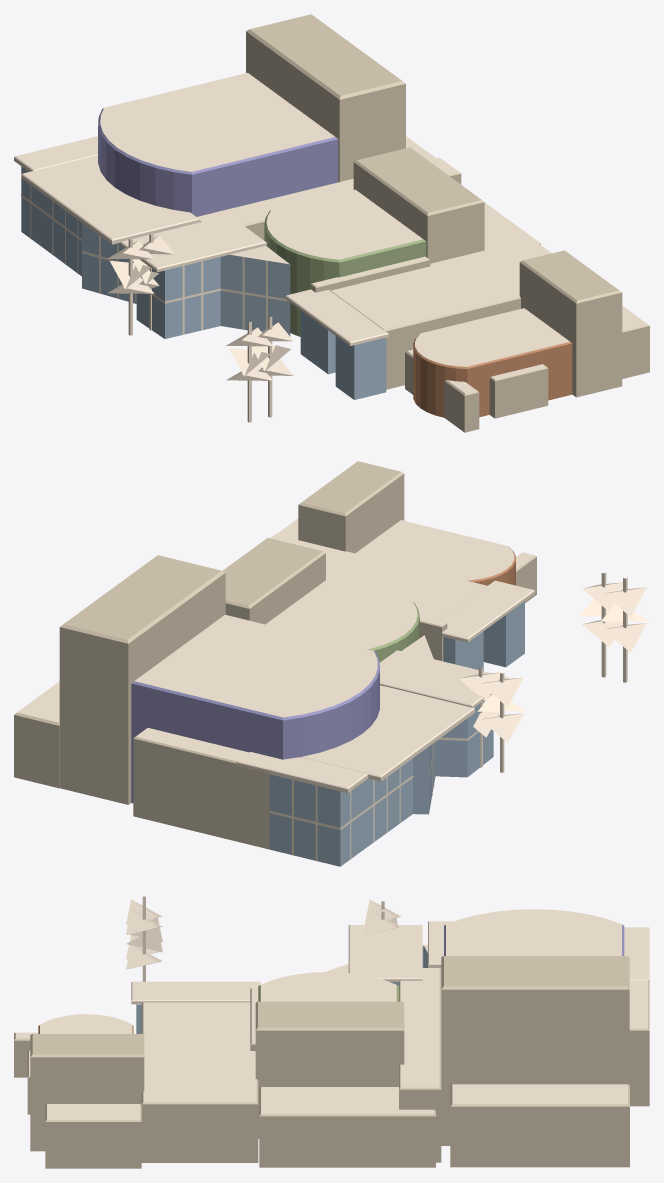
The model's file is phx-mesa-arts-center.glb.
The picture shows the model from 3 angles, top to bottom: view 1: azimuth 30°, elevation 25°; view 2: azimuth 150°, elevation 25°; view 3: azimuth 270°, elevation 25°; orthographic projection. The views are drawn at different scales.
Visible parts, largest first — view 1: Mesa Arts Center; view 2: Mesa Arts Center; view 3: Mesa Arts Center.
Boxes of the visible parts, bbox=[...] form: Mesa Arts Center: bbox=[14, 14, 649, 432]; Mesa Arts Center: bbox=[14, 461, 649, 866]; Mesa Arts Center: bbox=[14, 896, 649, 1168].
Bounding box in the file's own units: 79.9 × 33 × 120.
